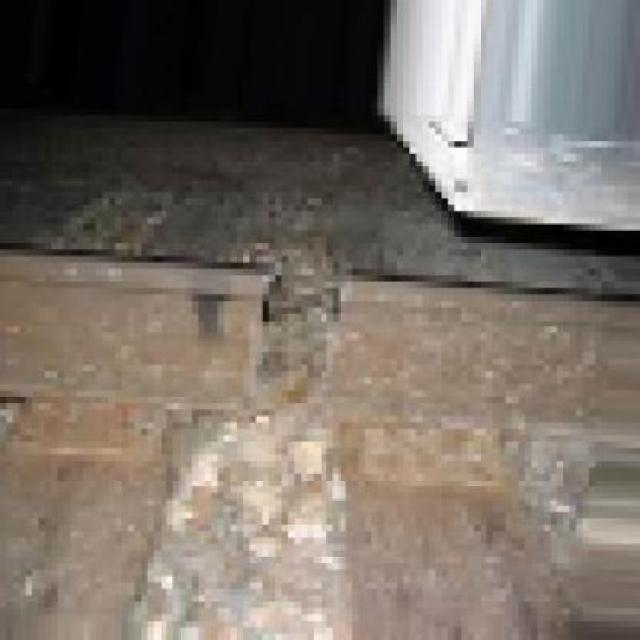defective: (128, 180, 448, 566)
